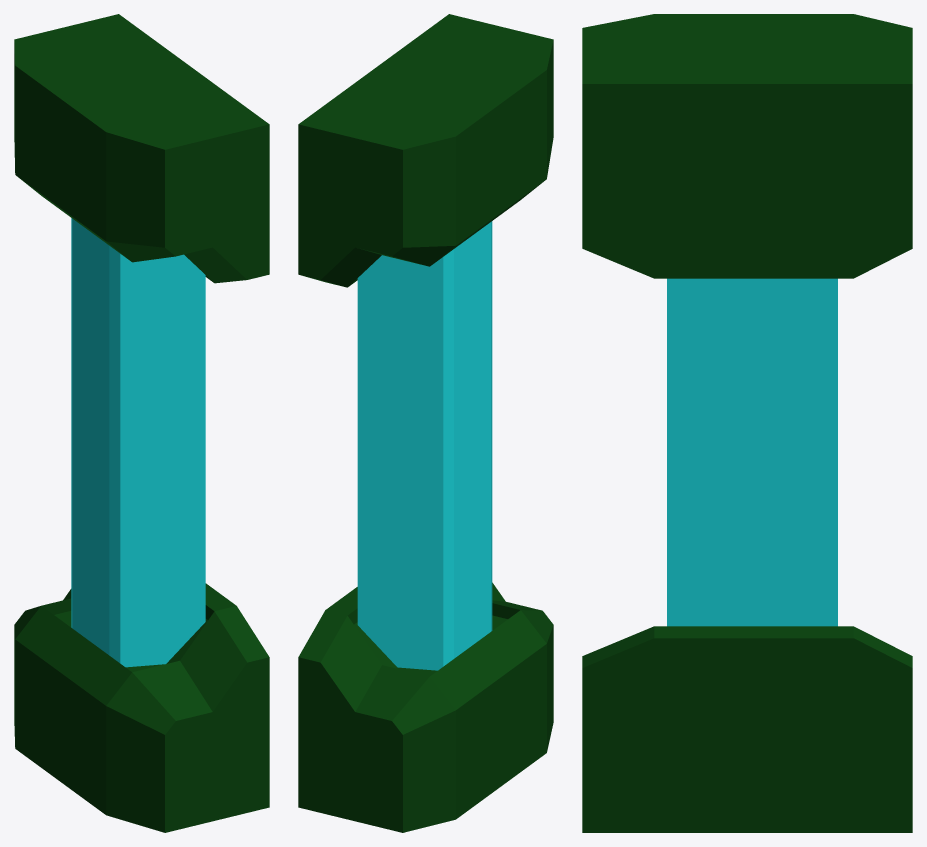
File: SM_Gate_Small.FBX
3 views of the same model, side by side, from view 1: azimuth 30°, elevation 25°; view 2: azimuth 150°, elevation 25°; view 3: azimuth 270°, elevation 25° (orthographic). The views are drawn at different scales.
Visible parts, largest first — view 1: Box002, Barrier_Base_Top, Barrier_Base_Btm; view 2: Box002, Barrier_Base_Top, Barrier_Base_Btm; view 3: Barrier_Base_Top, Barrier_Base_Btm, Box002.
Boxes of the visible parts, bbox=[...] form: Box002: bbox=[71, 218, 205, 667]; Barrier_Base_Top: bbox=[14, 14, 269, 283]; Barrier_Base_Btm: bbox=[14, 583, 269, 832]; Box002: bbox=[357, 221, 492, 670]; Barrier_Base_Top: bbox=[298, 14, 553, 287]; Barrier_Base_Btm: bbox=[298, 582, 553, 832]; Barrier_Base_Top: bbox=[582, 14, 912, 278]; Barrier_Base_Btm: bbox=[582, 626, 912, 832]; Box002: bbox=[667, 278, 837, 626].
Size of the model in its own units: 10 by 20 by 50.
